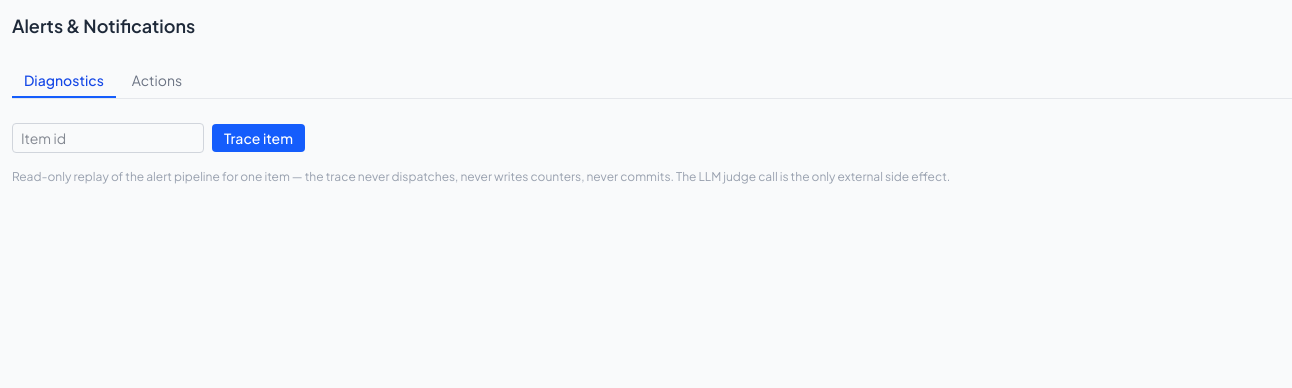
Test: Diagnostics sub-view › shows the not-found state for an unknown item
Type "999" into the field with placeholder "Item id" at (108, 138), box x1=12 y1=123 x2=204 y2=153
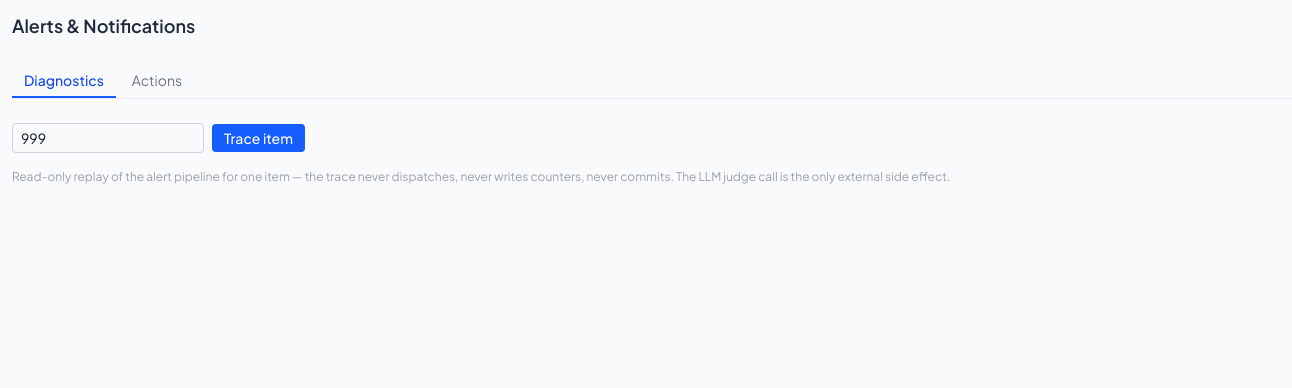
Click the button "Trace item" at (258, 138), box x1=212 y1=124 x2=305 y2=152
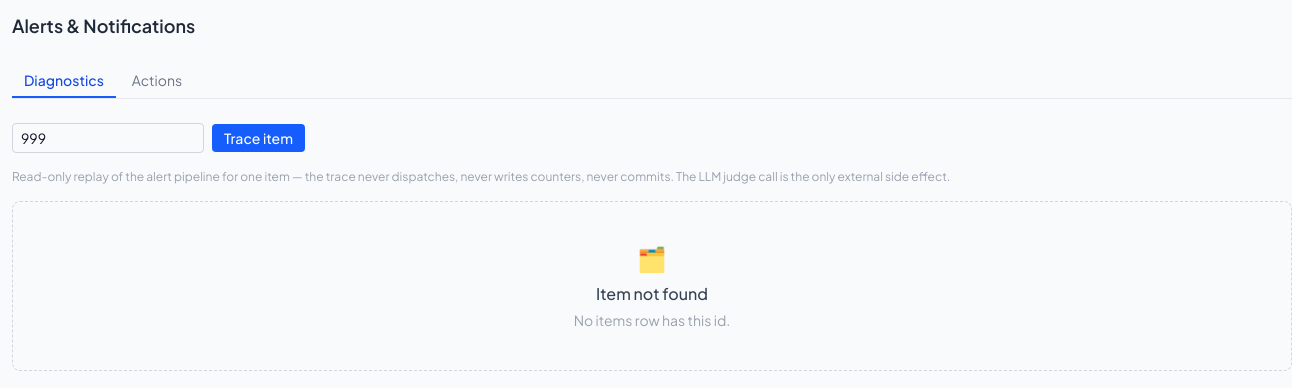
Check: the text "Item not found" is shown, box x1=596 y1=282 x2=708 y2=306
